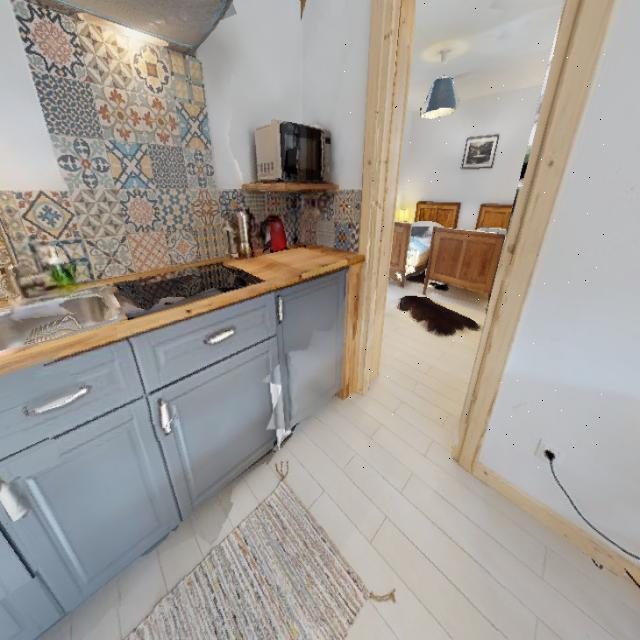door-frame: (344, 0, 605, 471)
